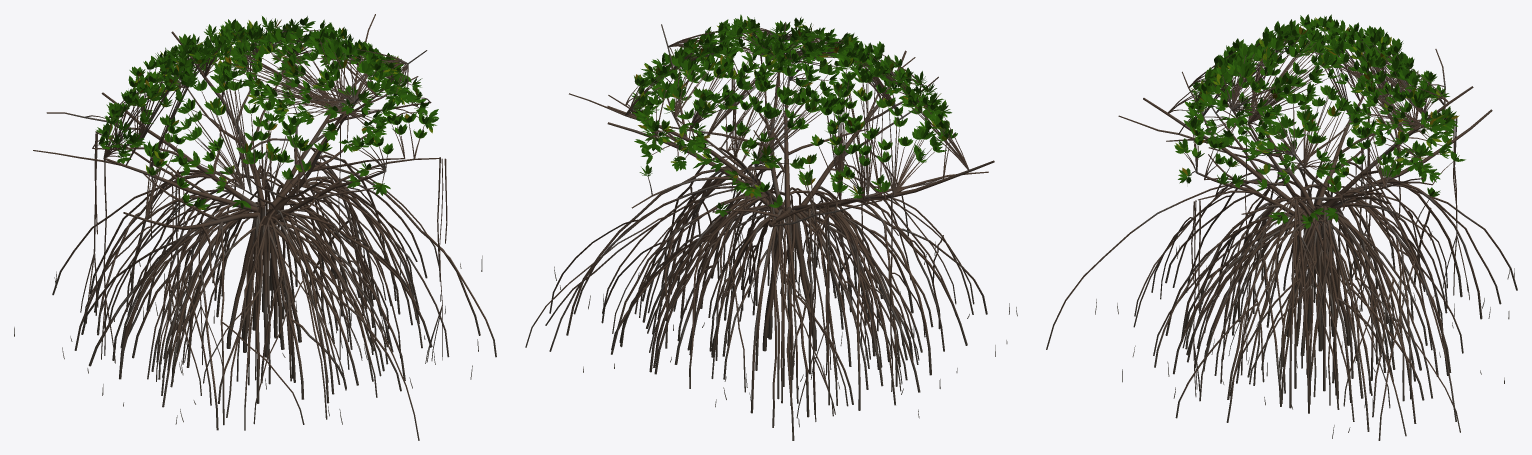
The model's file is RedMangrove_13_MidMultiStem.fbx.
3 renders of one model, left to right at view 1: azimuth 30°, elevation 25°; view 2: azimuth 150°, elevation 25°; view 3: azimuth 270°, elevation 25°, orthographic. The views are drawn at different scales.
Visible parts, largest first — view 1: RedMangrove_13_MidMultiStem_LOD0; view 2: RedMangrove_13_MidMultiStem_LOD0; view 3: RedMangrove_13_MidMultiStem_LOD0.
Part boxes in pixels (left/top/right/bottom): RedMangrove_13_MidMultiStem_LOD0: left=14, top=14, right=496, bottom=440; RedMangrove_13_MidMultiStem_LOD0: left=525, top=14, right=1017, bottom=440; RedMangrove_13_MidMultiStem_LOD0: left=1046, top=14, right=1517, bottom=440.
Size of what is drawn, in the model's own units: 8.2 by 5.8 by 8.21.
